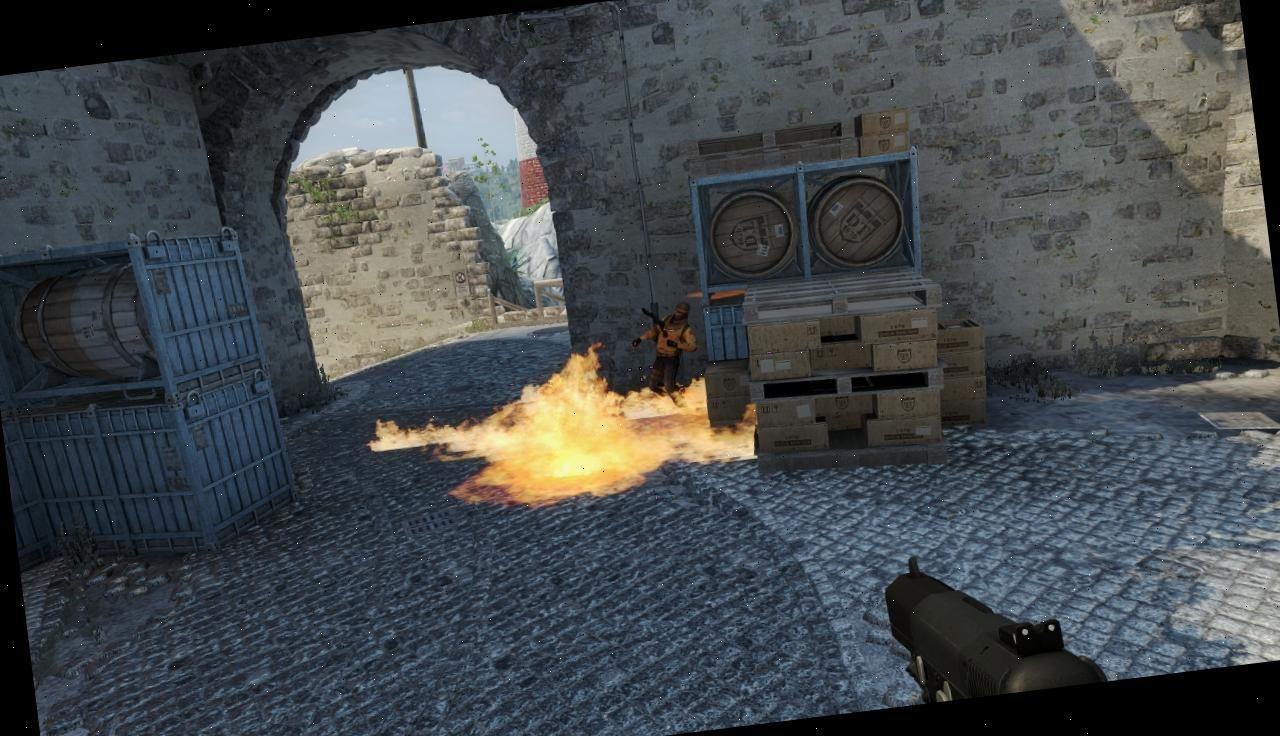pistol: (862, 532, 1117, 710)
